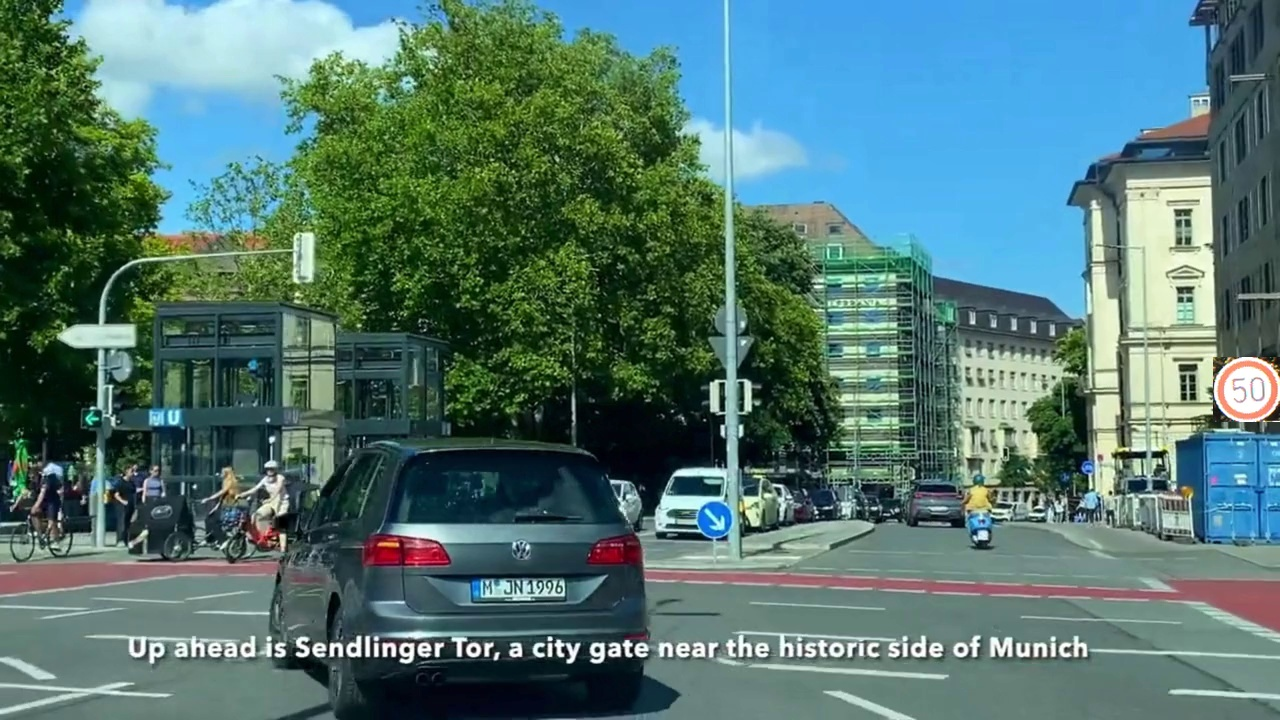Speed 50: (1213, 357, 1280, 422)
